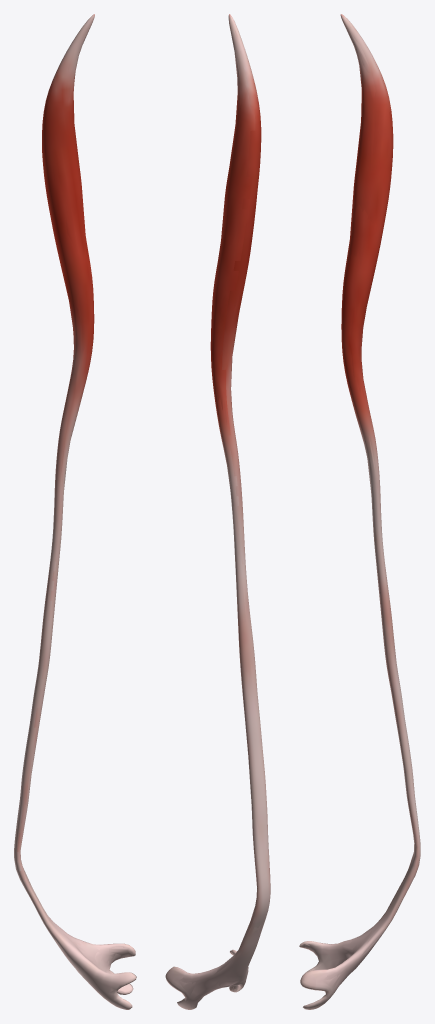
The model's file is L Superficial Digital Flexor.fbx.
The picture shows the model from 3 angles, left to right: view 1: azimuth 90°, elevation 25°; view 2: azimuth 210°, elevation 25°; view 3: azimuth 270°, elevation 25°; orthographic projection.
Parts seen in each view (by area): view 1: L Superficial Digital Flexor, L Superficial Digital Flexor low; view 2: L Superficial Digital Flexor, L Superficial Digital Flexor low; view 3: L Superficial Digital Flexor, L Superficial Digital Flexor low.
Part boxes in pixels (x1,y1,x2,y2): L Superficial Digital Flexor: (14,14,136,1009); L Superficial Digital Flexor low: (15,17,135,1007); L Superficial Digital Flexor: (165,14,270,1009); L Superficial Digital Flexor low: (167,30,270,1007); L Superficial Digital Flexor: (299,14,420,1009); L Superficial Digital Flexor low: (300,25,419,1009).
Bounding box in the file's own units: 6.58 × 85.44 × 9.57.
